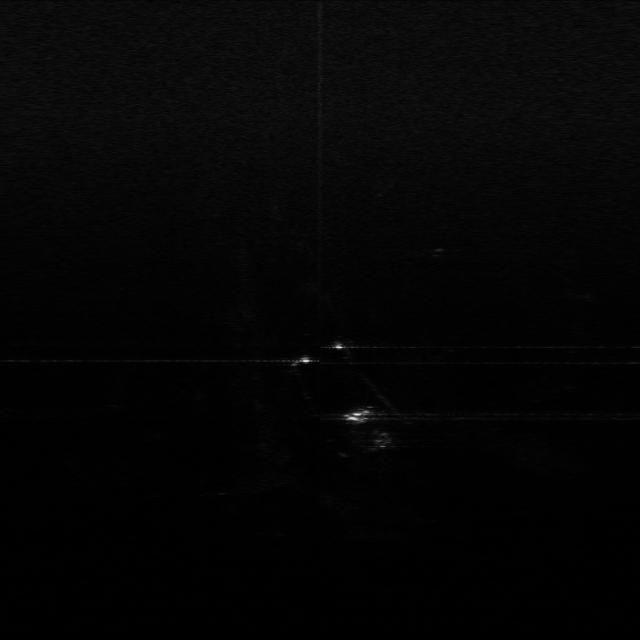rov: (338, 400, 379, 428)
